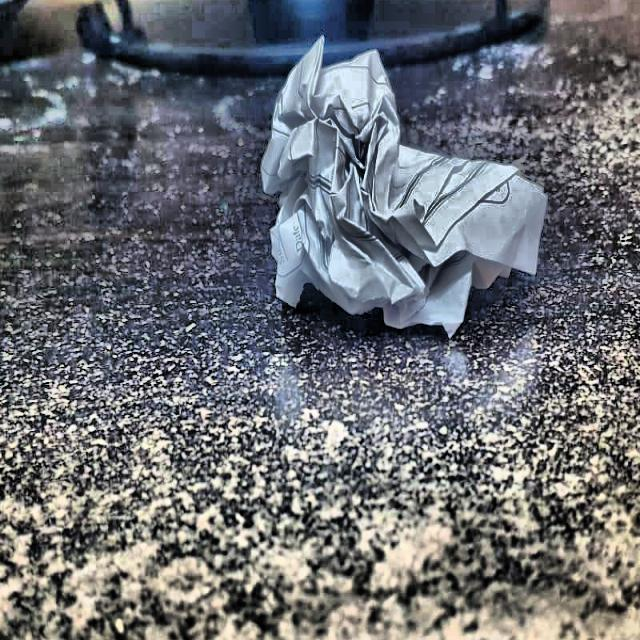paper: (252, 33, 566, 340)
